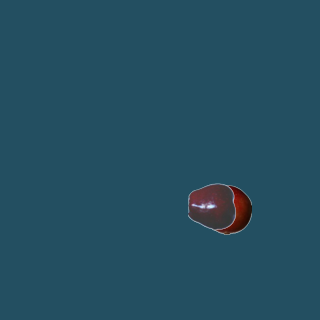Apple Braeburn: (201, 184, 251, 234)
Apple Red Delicious: (187, 181, 237, 231)
